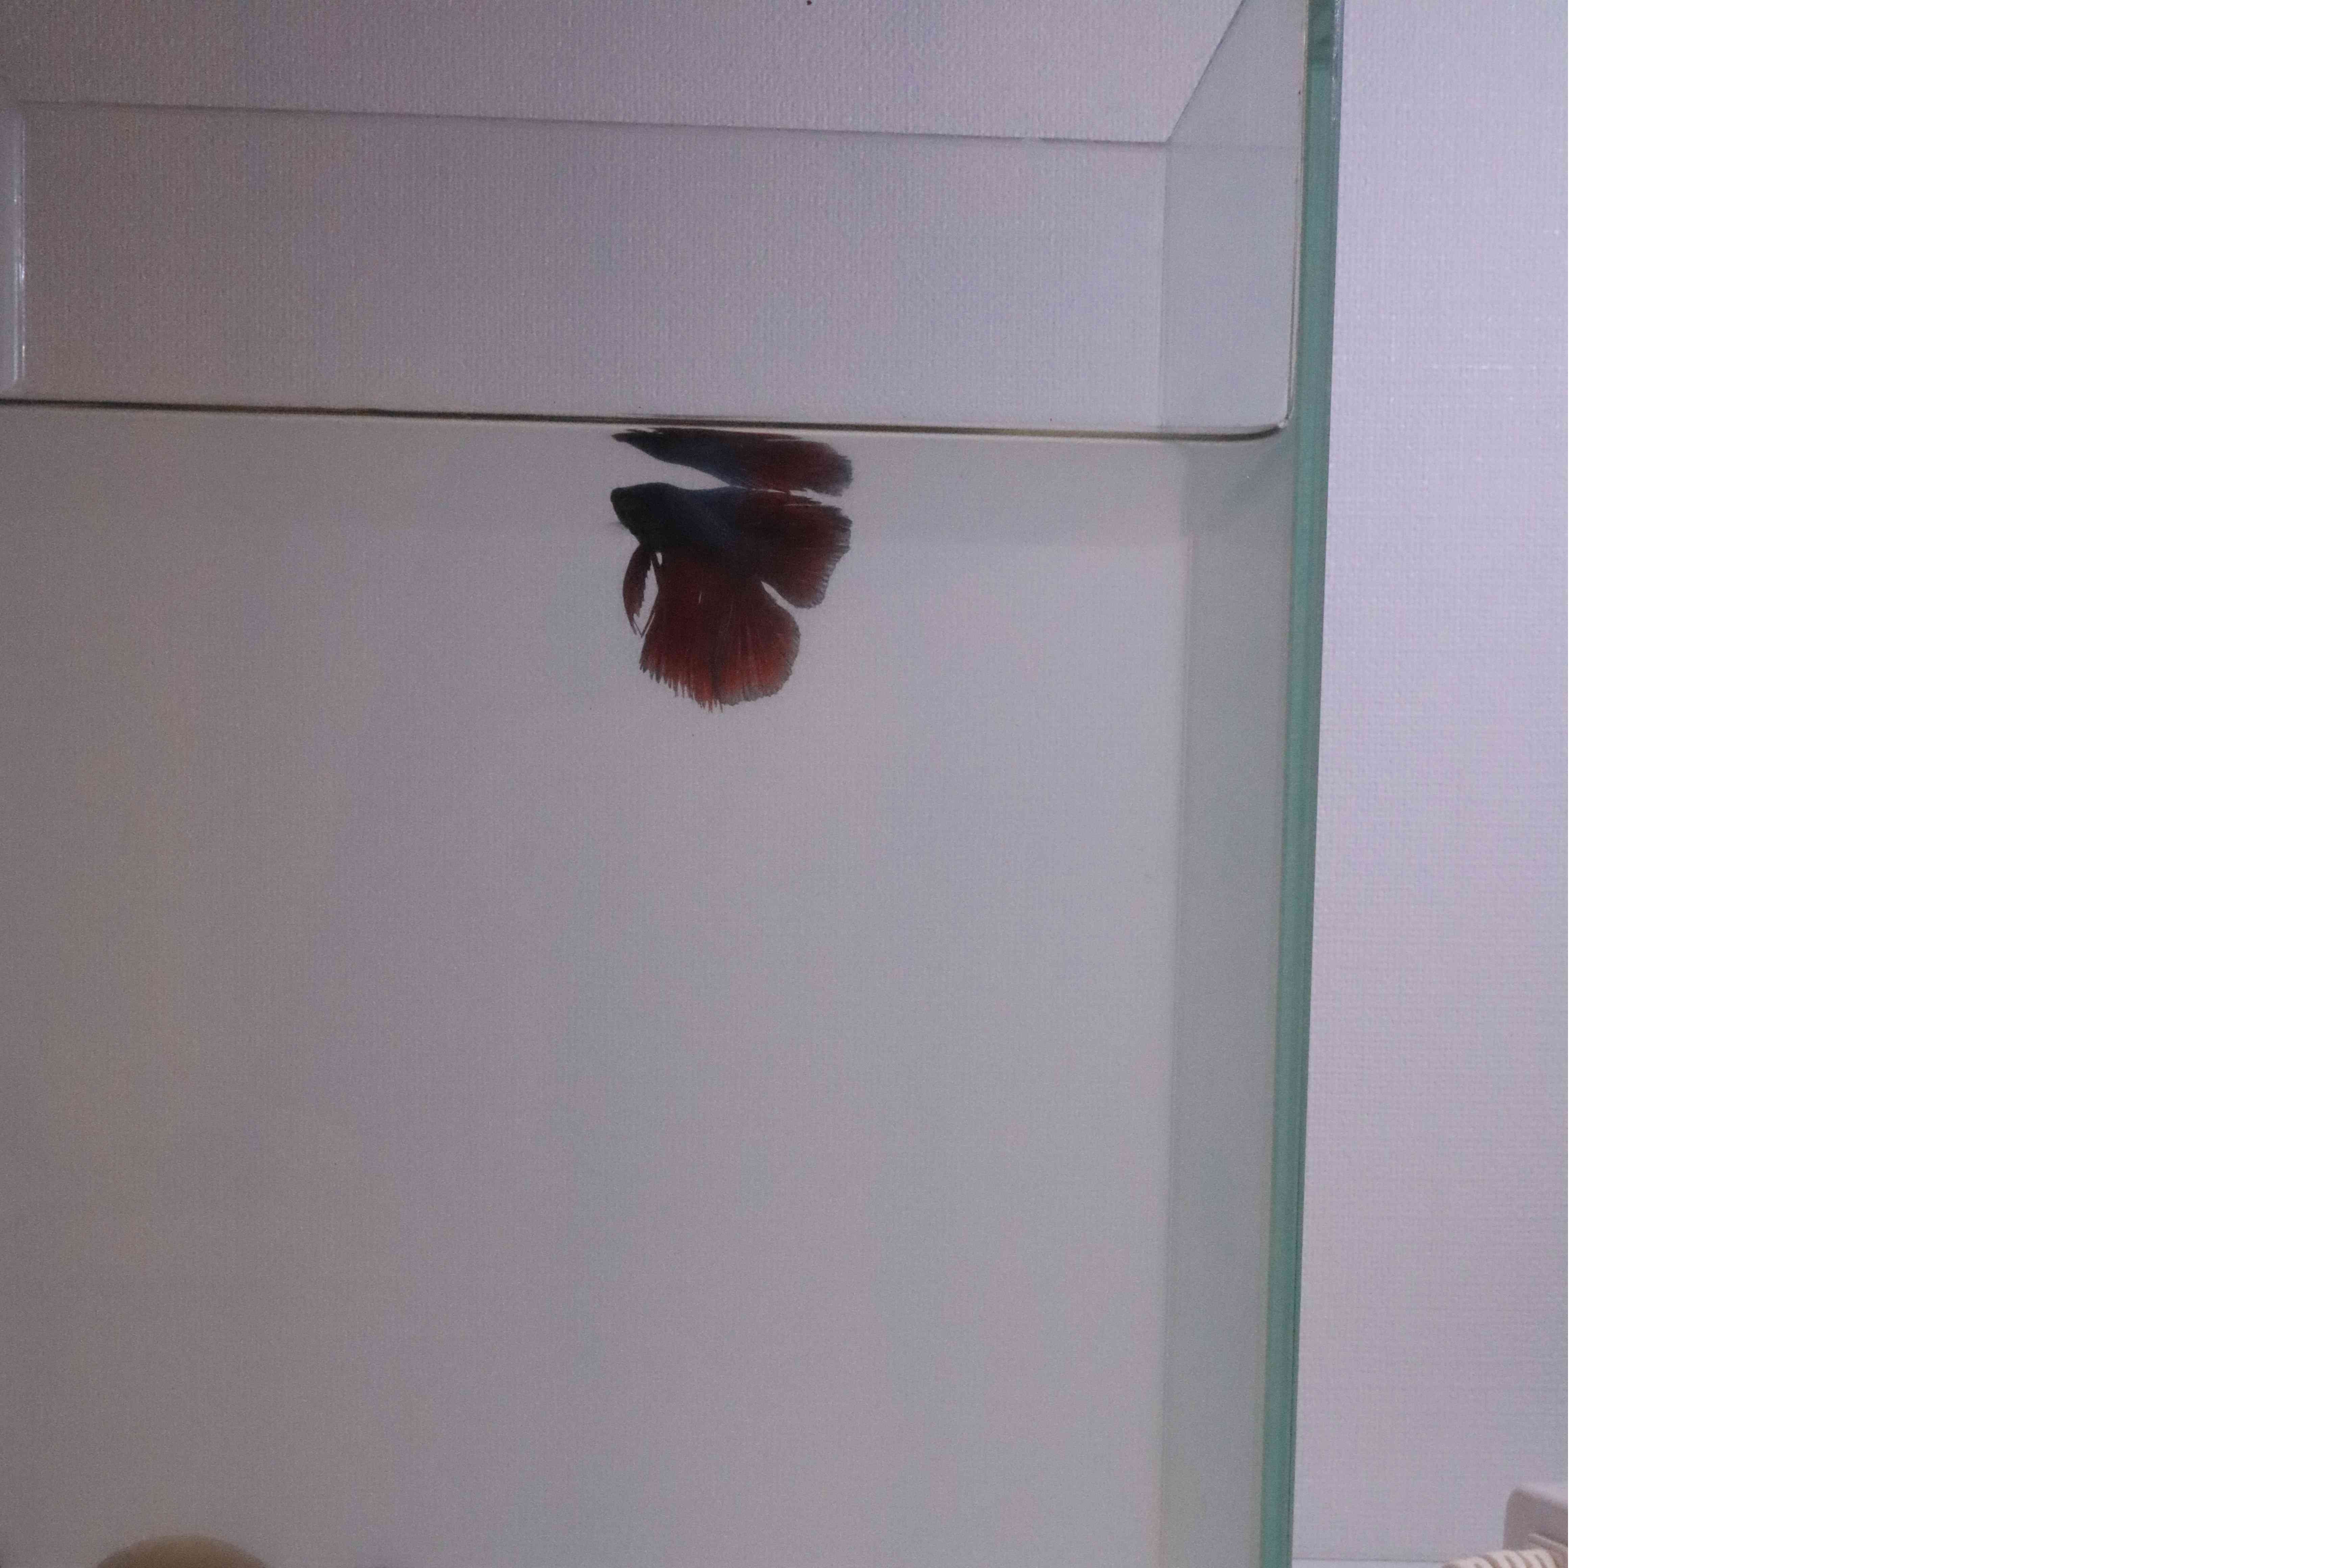fish: (585, 469, 879, 716)
